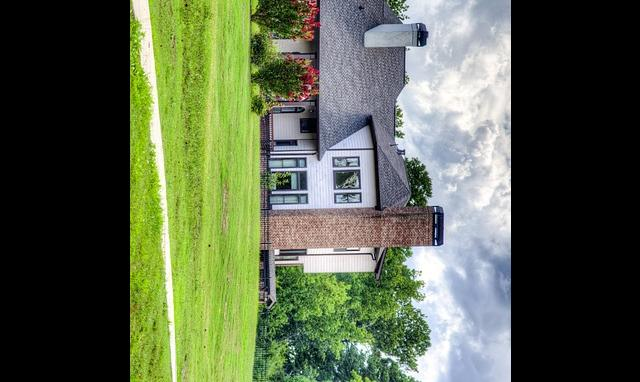Non_Gorille: (232, 0, 469, 358)
